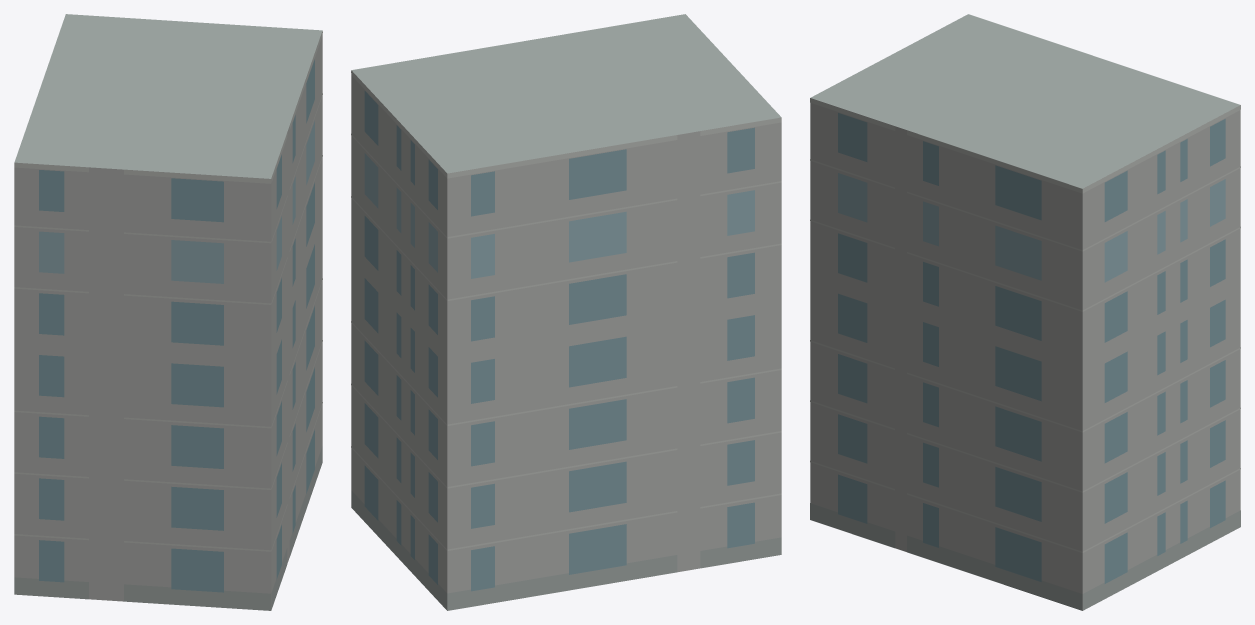
The model's file is survey-upis-33015587.glb.
3 renders of one model, left to right at view 1: azimuth 30°, elevation 25°; view 2: azimuth 150°, elevation 25°; view 3: azimuth 270°, elevation 25°, orthographic. The views are drawn at different scales.
Parts seen in each view (by area): view 1: survey-upis-33015587.tmp; view 2: survey-upis-33015587.tmp; view 3: survey-upis-33015587.tmp.
Part boxes in pixels (box(x1,y1,x2,y2)): survey-upis-33015587.tmp: box(14, 14, 322, 610); survey-upis-33015587.tmp: box(351, 14, 781, 610); survey-upis-33015587.tmp: box(810, 14, 1240, 610).
Size of the model in its own units: 18.99 by 21.35 by 19.76.
